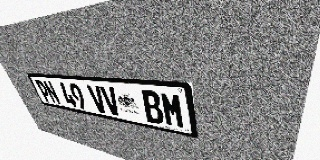4: (57, 82, 78, 108)
9: (67, 83, 89, 110)
B: (140, 90, 165, 125)
M: (159, 91, 186, 129)
N: (42, 80, 62, 105)
P: (34, 80, 53, 103)
V: (99, 86, 122, 117), (86, 85, 109, 114)
